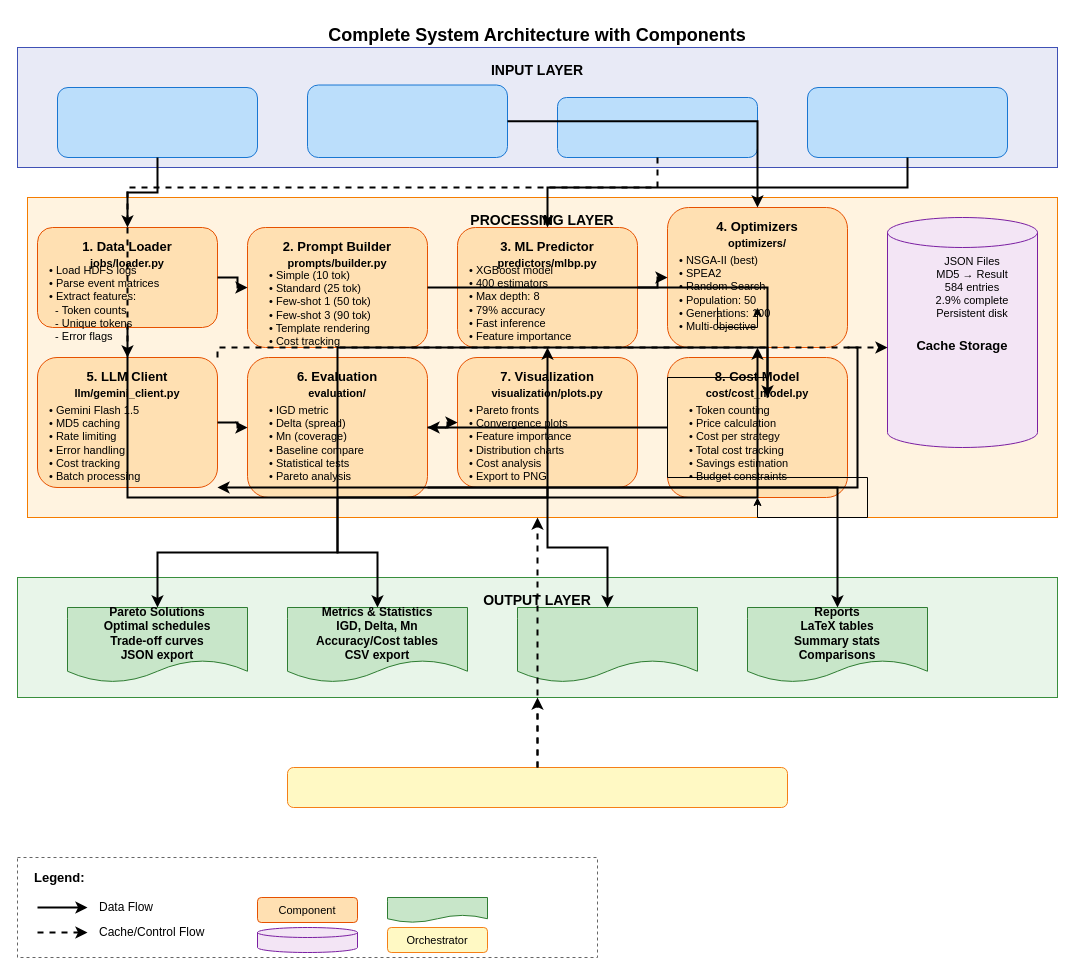
The diagram is 1075 pixels wide and 975 high, and some of its shapes have lost their labels. The centre of each missing label's shape, as x and y in pixels:
"Cache (Existing) 584/20k LLM results MD5-indexed JSON Cost savings" belongs at (657,127).
"Configuration Prompt costs Algorithm params Dataset paths" belongs at (407,121).
"HDFS Dataset 20,000 log sequences Event templates Anomaly labels" belongs at (157,122).
"Main Orchestrator (main.py)" belongs at (537,787).
"Output" belongs at (437,909).
"Pre-trained Models XGBoost (trained) Feature extractors Gemini API access" belongs at (907,122).
"Storage" belongs at (307,939).
"Visualizations PNG charts Pareto fronts Analysis plots" belongs at (607,644).
